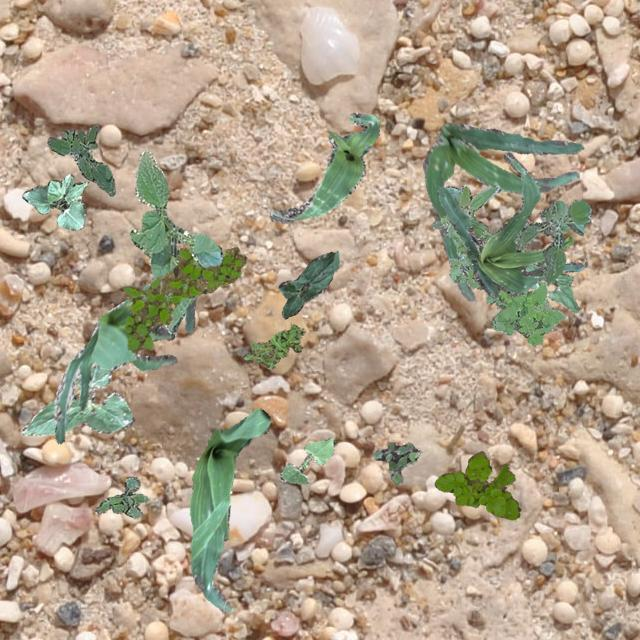crop: (422, 123, 582, 300), (53, 282, 199, 442), (436, 152, 586, 298), (128, 148, 222, 332), (188, 408, 268, 612), (268, 111, 378, 222), (22, 366, 134, 434), (278, 250, 338, 318), (20, 172, 86, 230), (524, 260, 578, 310), (280, 436, 332, 484)
weed: (440, 214, 564, 344), (122, 246, 245, 352), (514, 198, 590, 284), (434, 451, 520, 518), (46, 124, 114, 194), (430, 183, 500, 230), (242, 323, 304, 368), (94, 476, 148, 518), (372, 442, 419, 484)
